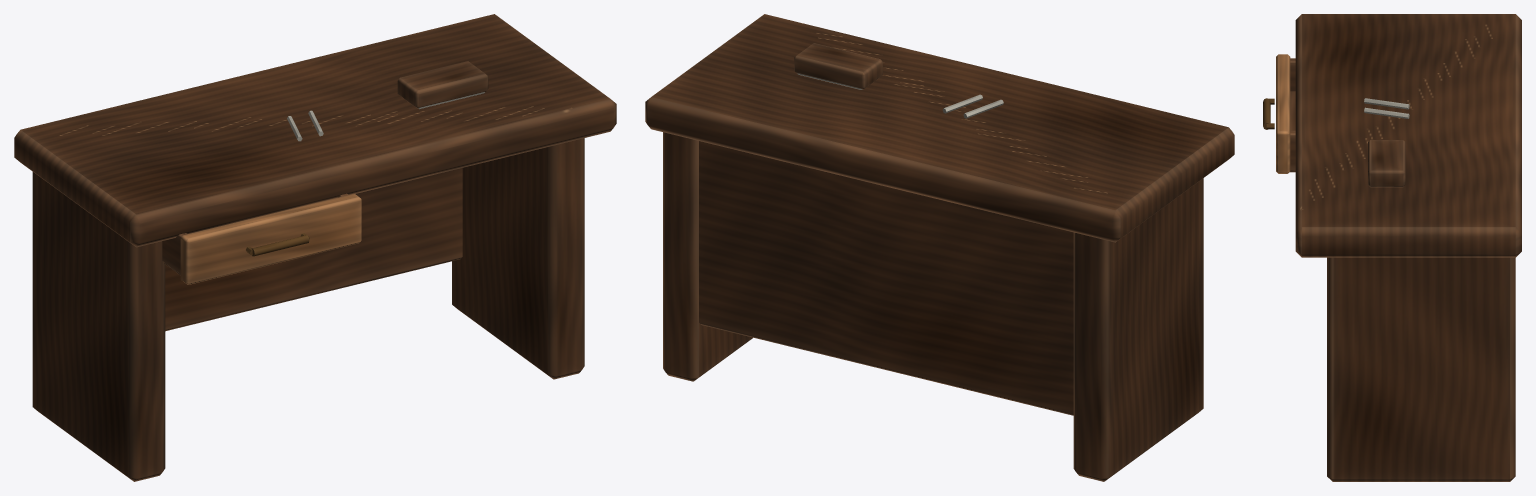
Rendered from Furn_Vacant_OldTeacherDesk.fbx.
3 renders of one model, left to right at view 1: azimuth 30°, elevation 25°; view 2: azimuth 150°, elevation 25°; view 3: azimuth 270°, elevation 25°, orthographic. The views are drawn at different scales.
Visible parts, largest first — view 1: Furn_Vacant_OldTeacherDesk; view 2: Furn_Vacant_OldTeacherDesk; view 3: Furn_Vacant_OldTeacherDesk.
Part boxes in pixels (<box>): Furn_Vacant_OldTeacherDesk: <box>14,14,616,481</box>; Furn_Vacant_OldTeacherDesk: <box>645,14,1234,481</box>; Furn_Vacant_OldTeacherDesk: <box>1263,14,1521,481</box>.
Size of the model in its own units: 1.6 by 0.95 by 0.8.
Materials: 4 (4 with a texture image).
